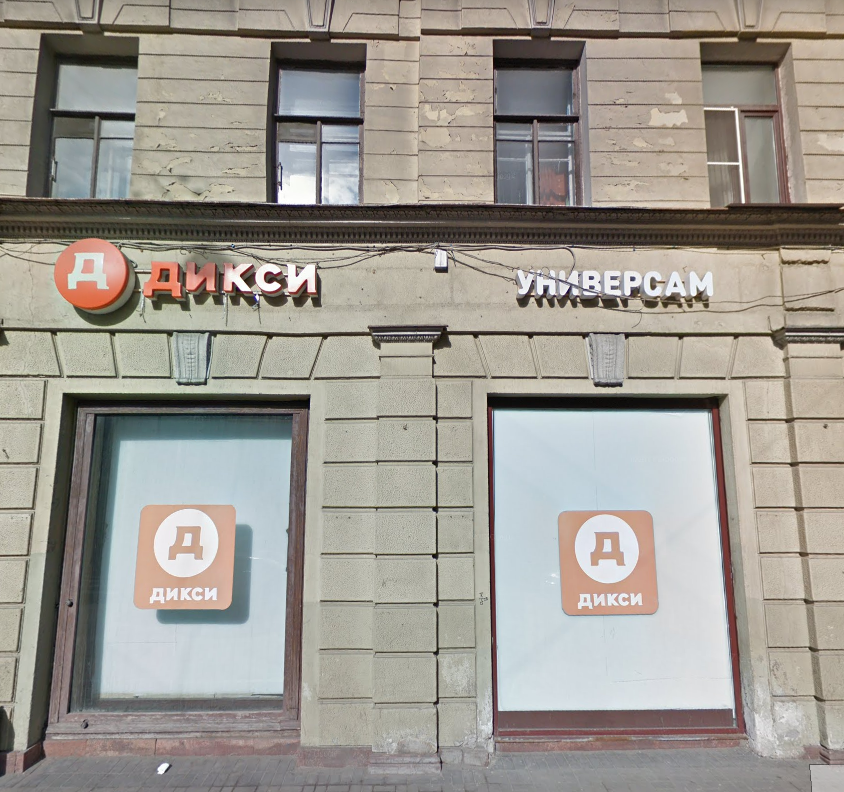signboard: (57, 230, 329, 324), (516, 271, 721, 303)
win_ad: (552, 497, 666, 621), (135, 501, 238, 614)
window: (491, 392, 739, 730), (69, 404, 299, 725), (489, 43, 588, 207), (38, 30, 132, 194), (267, 47, 363, 206), (698, 44, 792, 202)
